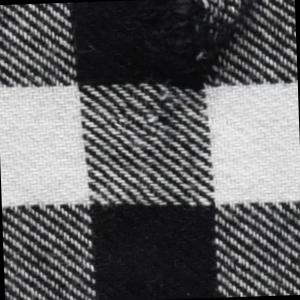Damage: (134, 1, 263, 88), (122, 95, 186, 141)
